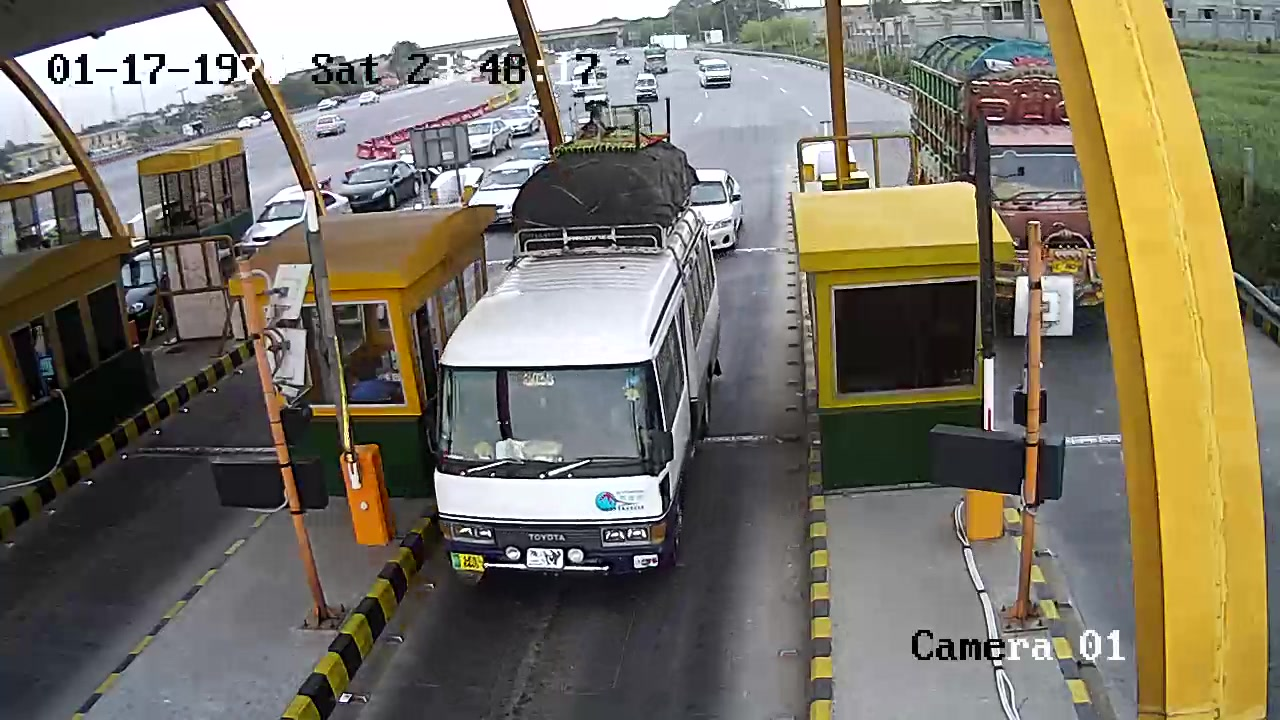F3: (420, 98, 720, 607)
